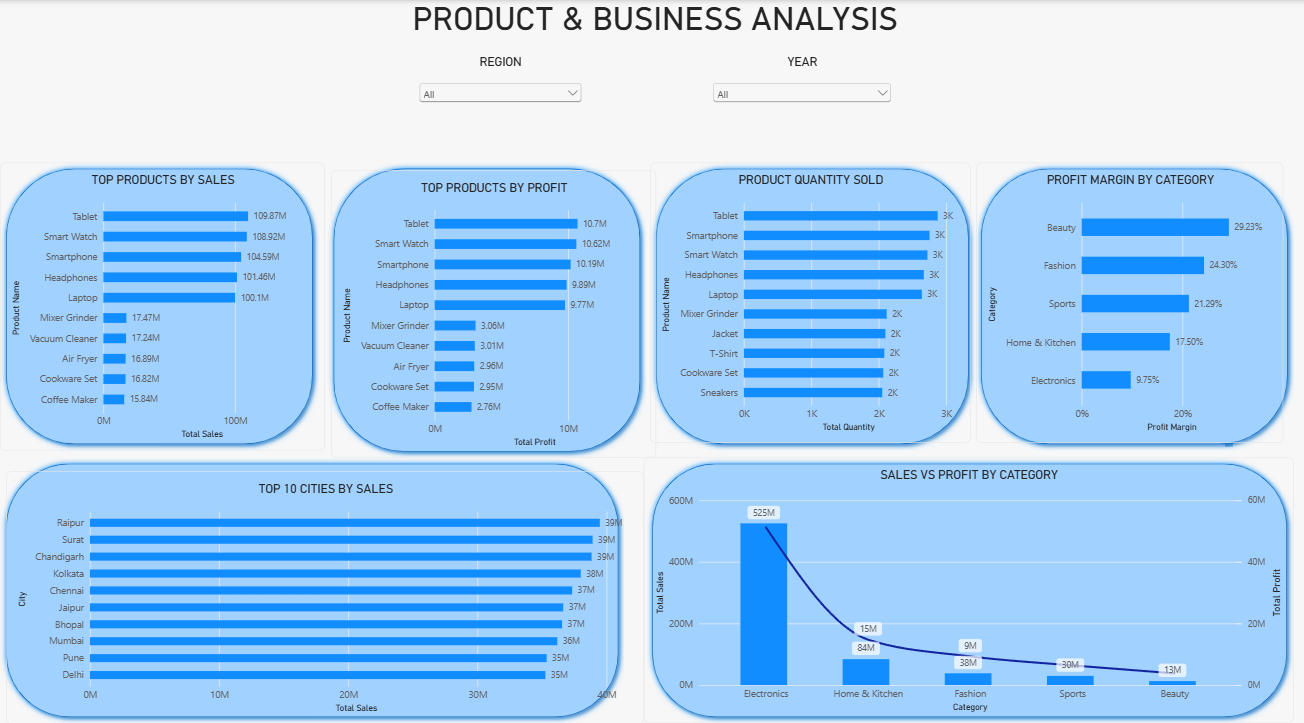

What the dashboard file says about the page in this screenshot:
{"tool":"powerbi","page":{"name":"PRODUCT & BUSINESS ANALYSIS","canvas":[1920,1080],"ordinal":2},"visuals":[{"type":"shape","box":[0,239.1,469.6,423.9],"z":500,"group":"g1"},{"type":"group","id":"g1","title":"Group 1","box":[0,239.1,1904.3,826.1],"z":875},{"type":"clusteredBarChart","title":"TOP PRODUCTS BY SALES","fields":{"Category":["public orders.product_name"],"Y":["Sum(public orders.sales)"]},"box":[0,239.1,478.3,423.9],"z":937},{"type":"clusteredBarChart","title":"TOP PRODUCTS BY PROFIT","fields":{"Category":["public orders.product_name"],"Y":["Sum(public orders.profit)"]},"box":[487,250,478.3,423.9],"z":1000},{"type":"clusteredBarChart","title":"PROFIT MARGIN BY CATEGORY","fields":{"Category":["public orders.category"],"Y":["public orders.Profit Margin %"]},"box":[1437,239.1,452.2,413],"z":2000},{"type":"clusteredBarChart","title":"PRODUCT QUANTITY SOLD","fields":{"Category":["public orders.product_name"],"Y":["Sum(public orders.quantity)"]},"box":[956.5,239.1,471.7,413],"z":3000},{"type":"clusteredBarChart","title":"TOP 10 CITIES BY SALES","fields":{"Category":["public orders.city"],"Y":["Sum(public orders.sales)"]},"box":[8.7,693.5,939.1,371.7],"z":4000},{"type":"lineClusteredColumnComboChart","title":"SALES VS PROFIT BY CATEGORY","fields":{"Category":["public orders.category"],"Y":["Sum(public orders.sales)"],"Y2":["Sum(public orders.profit)"]},"box":[947.8,673.9,956.5,391.3],"z":5000},{"type":"slicer","title":"YEAR","fields":{"Values":["public orders.Year"]},"box":[1045.7,80.4,271.7,115.2],"z":6000},{"type":"slicer","title":"REGION","fields":{"Values":["public orders.region"]},"box":[613,80.4,247.8,115.2],"z":7000},{"type":"textbox","box":[8.7,0,1910.9,80.3],"z":8000},{"type":"textbox","box":[0,0,1919.7,54],"z":9000},{"type":"shape","box":[956.5,239.1,478.3,423.9],"z":11000,"group":"g1"},{"type":"shape","box":[482.6,239.1,469.6,434.8],"z":12000,"group":"g1"},{"type":"shape","box":[1434.8,239.1,469.6,423.9],"z":13000,"group":"g1"},{"type":"shape","box":[0,673.9,919.6,391.3],"z":14000,"group":"g1"},{"type":"shape","box":[952.2,673.9,952.2,391.3],"z":15000,"group":"g1"}]}

Visuals, with their boxes in screenshot pixels (x1, y1, x2, y2), scaled from the page's 1920x1080 canvas onto the 1304x723 screenshot:
shape: <bbox>0, 160, 319, 444</bbox>
"Group 1" group: <bbox>0, 160, 1293, 713</bbox>
"TOP PRODUCTS BY SALES" clusteredBarChart: <bbox>0, 160, 325, 444</bbox>
"TOP PRODUCTS BY PROFIT" clusteredBarChart: <bbox>331, 167, 656, 451</bbox>
"PROFIT MARGIN BY CATEGORY" clusteredBarChart: <bbox>976, 160, 1283, 437</bbox>
"PRODUCT QUANTITY SOLD" clusteredBarChart: <bbox>650, 160, 970, 437</bbox>
"TOP 10 CITIES BY SALES" clusteredBarChart: <bbox>6, 464, 644, 713</bbox>
"SALES VS PROFIT BY CATEGORY" lineClusteredColumnComboChart: <bbox>644, 451, 1293, 713</bbox>
"YEAR" slicer: <bbox>710, 54, 895, 131</bbox>
"REGION" slicer: <bbox>416, 54, 585, 131</bbox>
textbox: <bbox>6, 0, 1303, 54</bbox>
textbox: <bbox>0, 0, 1303, 36</bbox>
shape: <bbox>650, 160, 974, 444</bbox>
shape: <bbox>328, 160, 647, 451</bbox>
shape: <bbox>974, 160, 1293, 444</bbox>
shape: <bbox>0, 451, 625, 713</bbox>
shape: <bbox>647, 451, 1293, 713</bbox>
